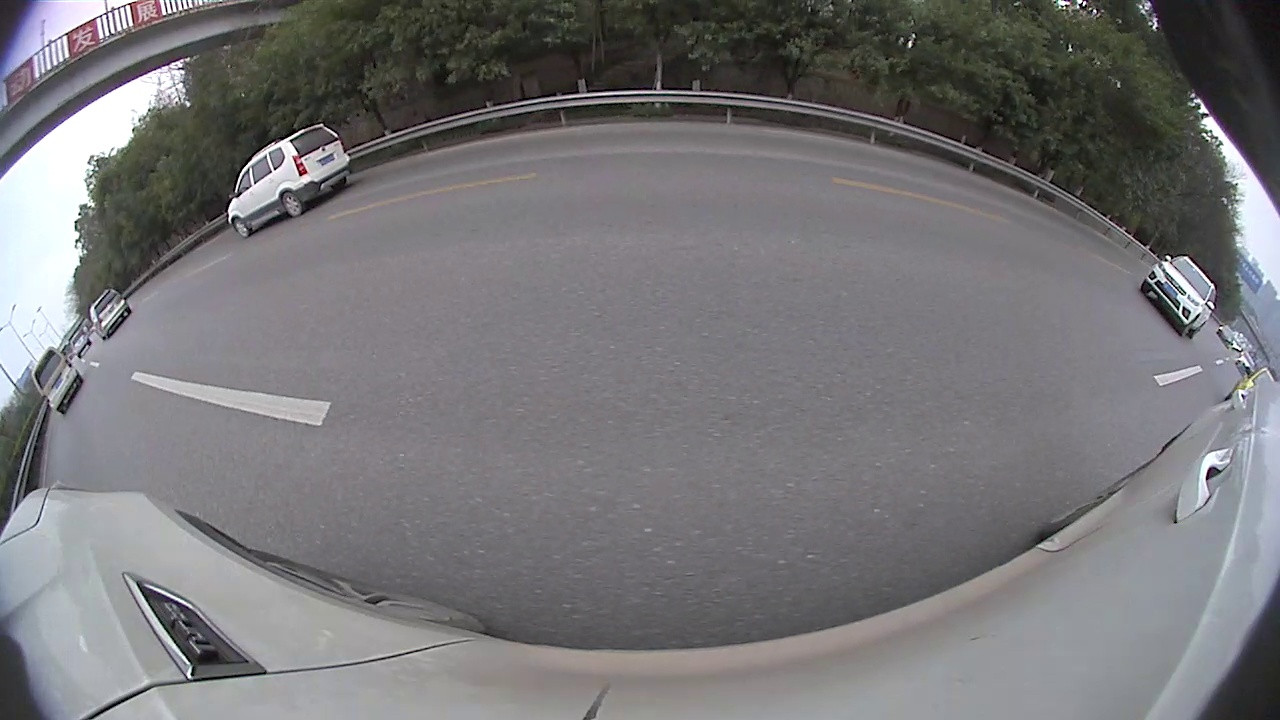bus: (786, 133, 972, 207)
car: (1, 266, 246, 500), (1049, 234, 1279, 431), (593, 112, 790, 249), (865, 176, 1039, 257), (442, 135, 566, 226), (784, 150, 817, 205), (553, 160, 590, 190)
front: (93, 333, 215, 464), (1062, 269, 1134, 346), (865, 192, 885, 219)
rear: (947, 213, 978, 249), (527, 183, 543, 222)
